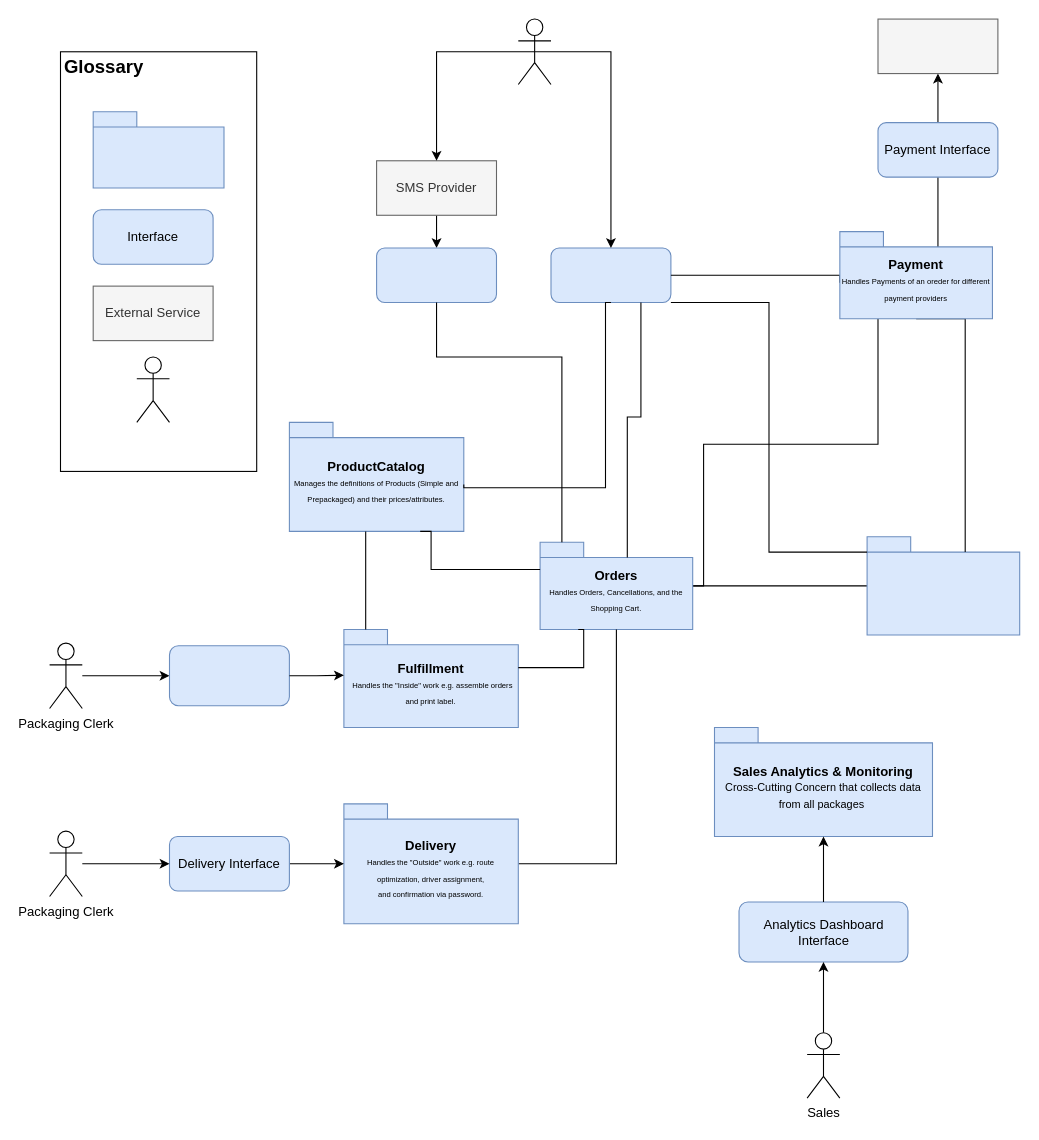
Image size: 1039x1140. Some labels were removed from this diagram. Here are the shapes that lost their labels. From the top down, the centre of each, then its label:
At point (534, 51): "User".
At point (937, 46): "Payment Provider".
At point (158, 149): "package".
At point (436, 274): "SMS Interface".
At point (610, 274): "Web Interface".
At point (152, 389): "Actor".
At point (943, 585): "AccountManager Manages Customer profiles, addresses, authentication logic.".
At point (228, 675): "Fulfillment Interface".
